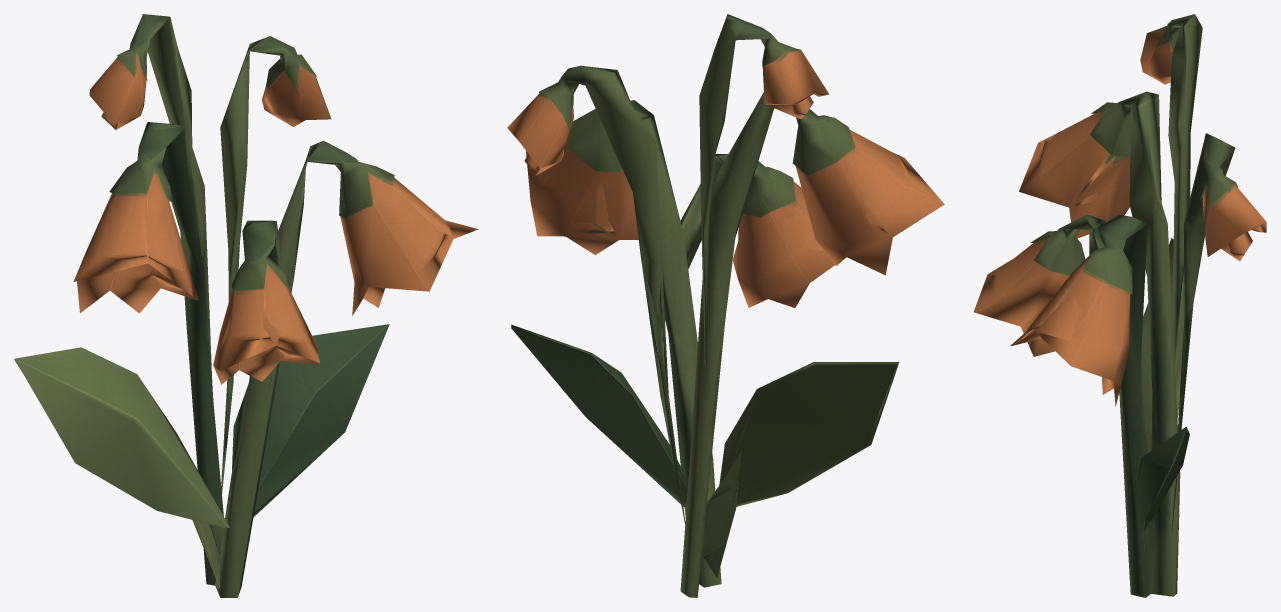
Rendered from AW-FLOWER-001-v0.2.glb.
3 renders of one model, left to right at view 1: azimuth 30°, elevation 25°; view 2: azimuth 150°, elevation 25°; view 3: azimuth 270°, elevation 25°, orthographic. The views are drawn at different scales.
Visible parts, largest first — view 1: AW-FLOWER-001_meter_ground_pivot; view 2: AW-FLOWER-001_meter_ground_pivot; view 3: AW-FLOWER-001_meter_ground_pivot.
Part boxes in pixels (<box>): AW-FLOWER-001_meter_ground_pivot: <box>14,14,478,597</box>; AW-FLOWER-001_meter_ground_pivot: <box>507,14,944,597</box>; AW-FLOWER-001_meter_ground_pivot: <box>973,14,1266,597</box>.
Bounding box in the file's own units: 0.4502 × 0.6 × 0.2885.
Materials: 1 (1 with a texture image).
